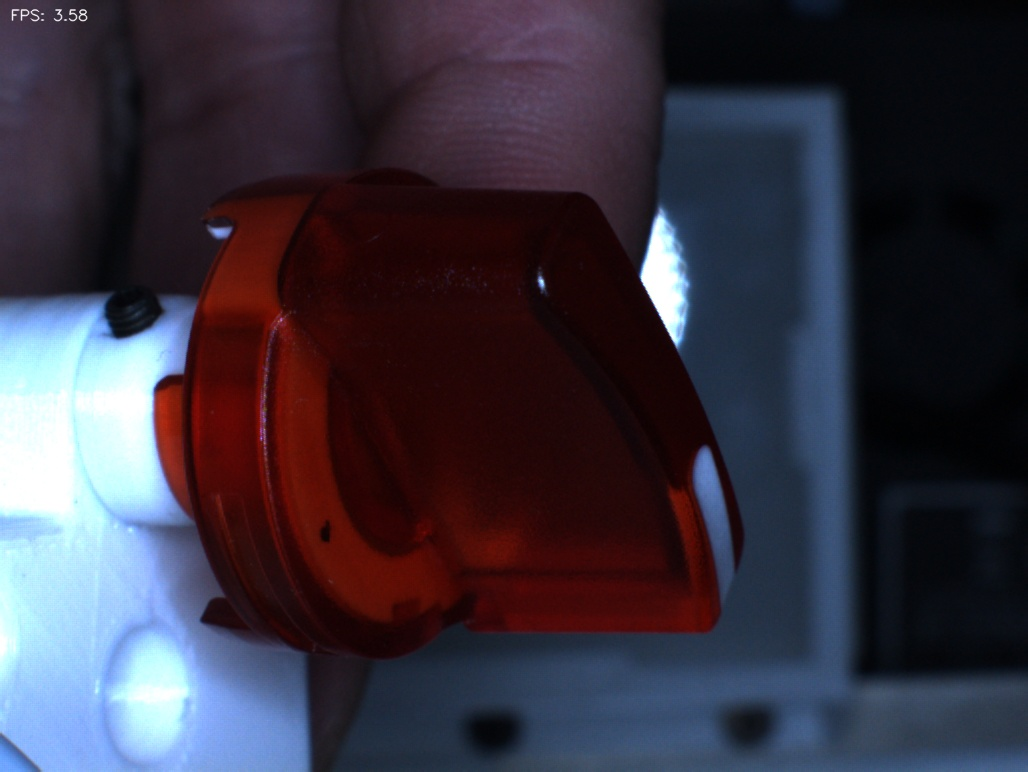PointNoir: (279, 492, 371, 580)
